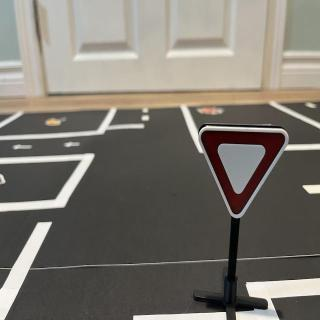road_oneway: (61, 139, 83, 151), (10, 143, 36, 152)
sign_yield: (200, 126, 290, 221)
